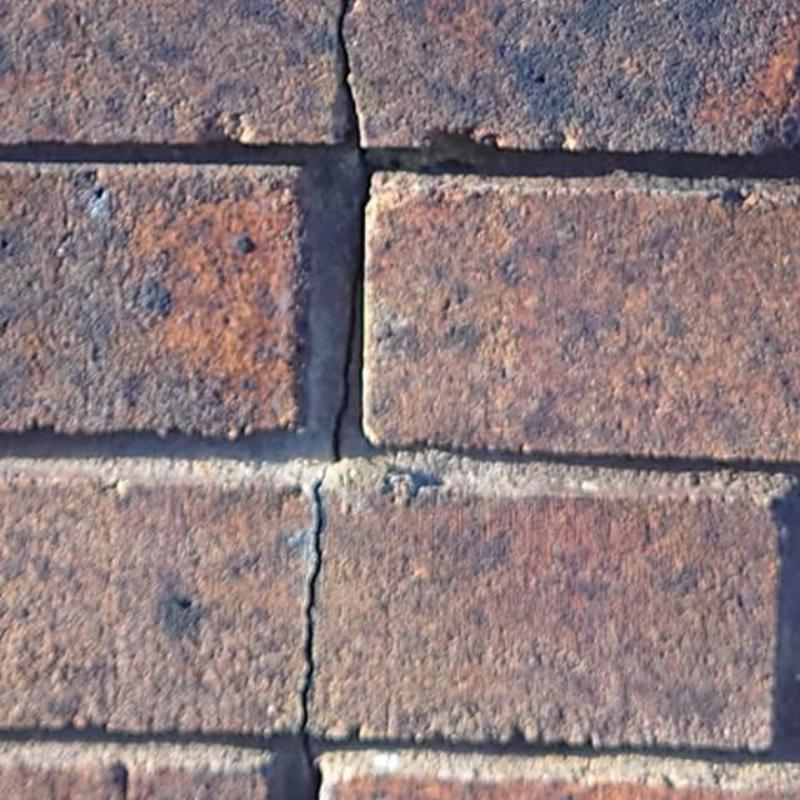crack: (330, 173, 372, 464), (300, 478, 328, 800), (336, 1, 371, 170)
